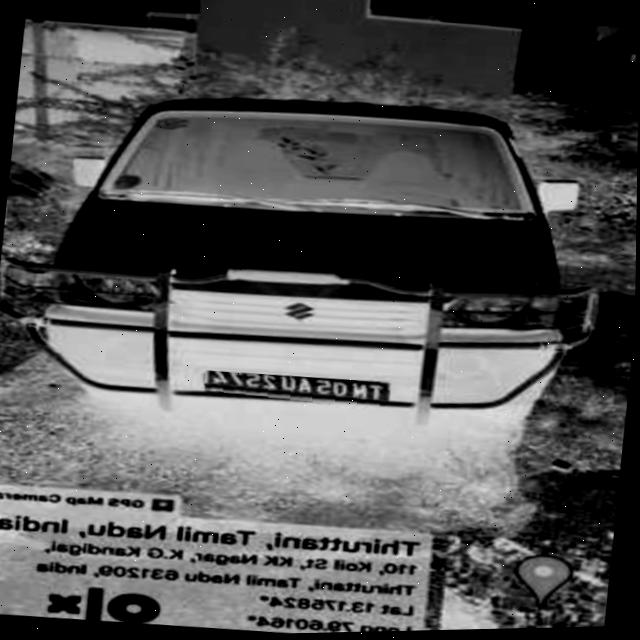Non_registered: (202, 368, 392, 415)
